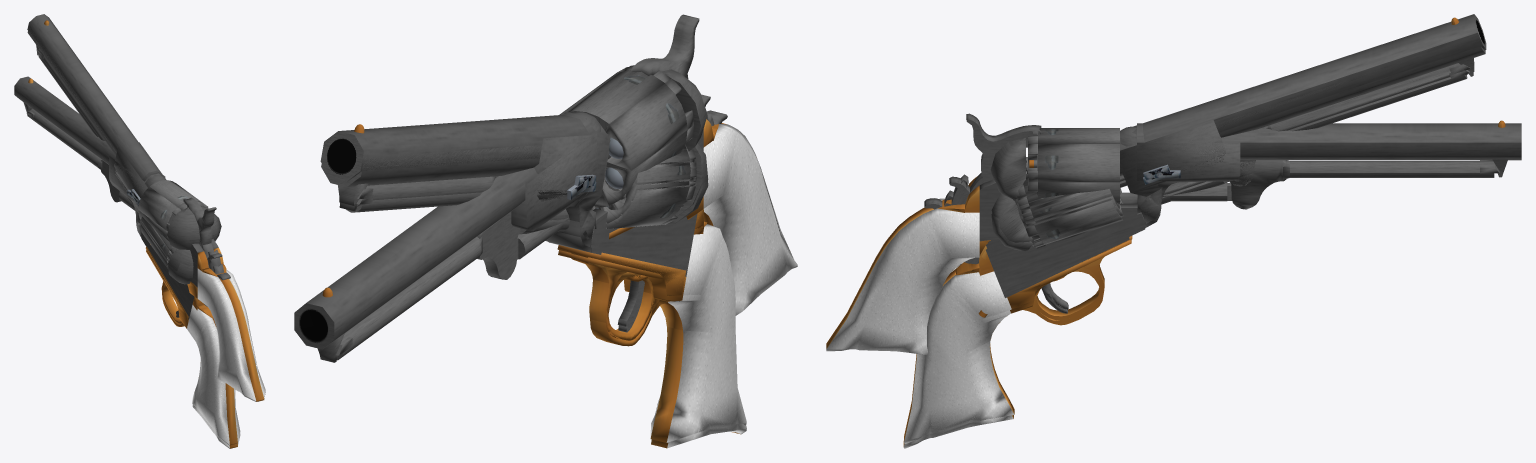
The model's file is 1851navy_view_cock.fbx.
The picture shows the model from 3 angles, left to right: view 1: azimuth 30°, elevation 25°; view 2: azimuth 150°, elevation 25°; view 3: azimuth 270°, elevation 25°; orthographic projection. The views are drawn at different scales.
Visible parts, largest first — view 1: Regroup02, Regroup17, Regroup15, Regroup18, Regroup16; view 2: Regroup02, Regroup15, Regroup18, Regroup17, Regroup16; view 3: Regroup02, Regroup17, Regroup18, Regroup15, Regroup16.
Boxes of the visible parts, x1=… form: Regroup02: x1=14, y1=76, x2=265, y2=401; Regroup17: x1=29, y1=14, x2=240, y2=445; Regroup15: x1=27, y1=23, x2=222, y2=437; Regroup18: x1=27, y1=25, x2=240, y2=448; Regroup16: x1=27, y1=24, x2=230, y2=444; Regroup02: x1=294, y1=14, x2=797, y2=362; Regroup15: x1=320, y1=94, x2=745, y2=442; Regroup18: x1=321, y1=114, x2=746, y2=448; Regroup17: x1=324, y1=105, x2=746, y2=432; Regroup16: x1=324, y1=110, x2=746, y2=442; Regroup02: x1=826, y1=113, x2=1521, y2=355; Regroup17: x1=904, y1=14, x2=1481, y2=443; Regroup18: x1=903, y1=24, x2=1485, y2=448; Regroup15: x1=917, y1=15, x2=1486, y2=439; Regroup16: x1=906, y1=14, x2=1480, y2=443.
Size of the model in its own units: 1.36 by 7.89 by 11.59.
Materials: 1 (1 with a texture image).
